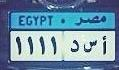1: (25, 34, 36, 55), (50, 35, 58, 55), (38, 35, 45, 55), (16, 36, 22, 56)
alif: (101, 35, 109, 56)
daal: (70, 39, 81, 52)
seen: (83, 39, 98, 54)
